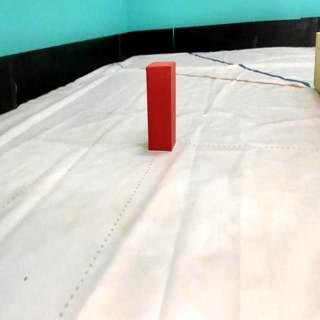redbox: (144, 60, 177, 152)
